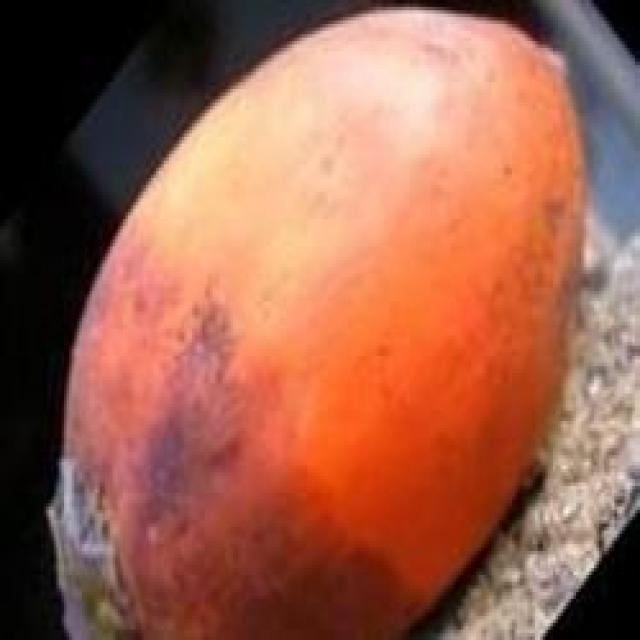good: (46, 7, 589, 637)
